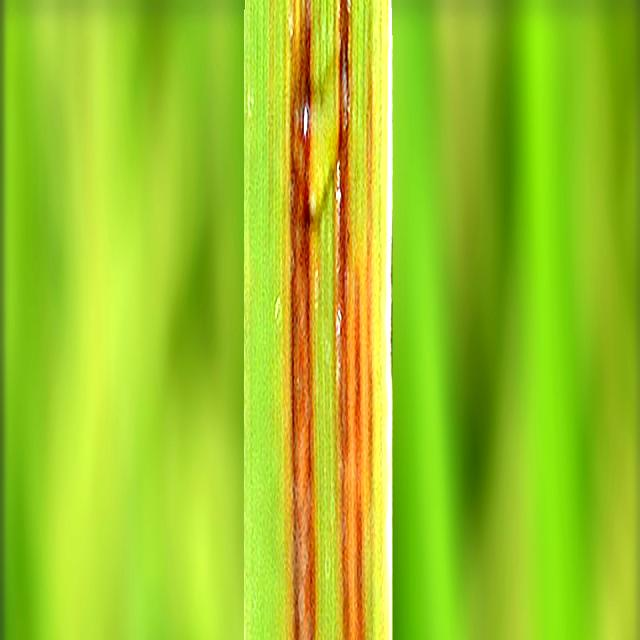NBS: (335, 0, 370, 640), (290, 0, 319, 640), (367, 64, 373, 543)
